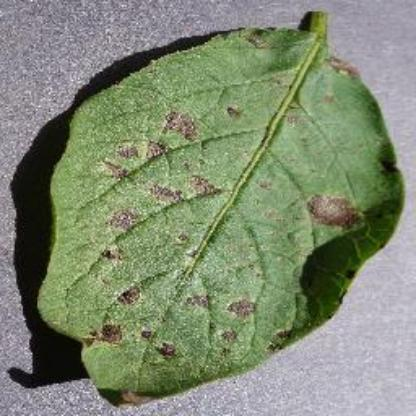Early-Blight: (34, 13, 406, 404)
